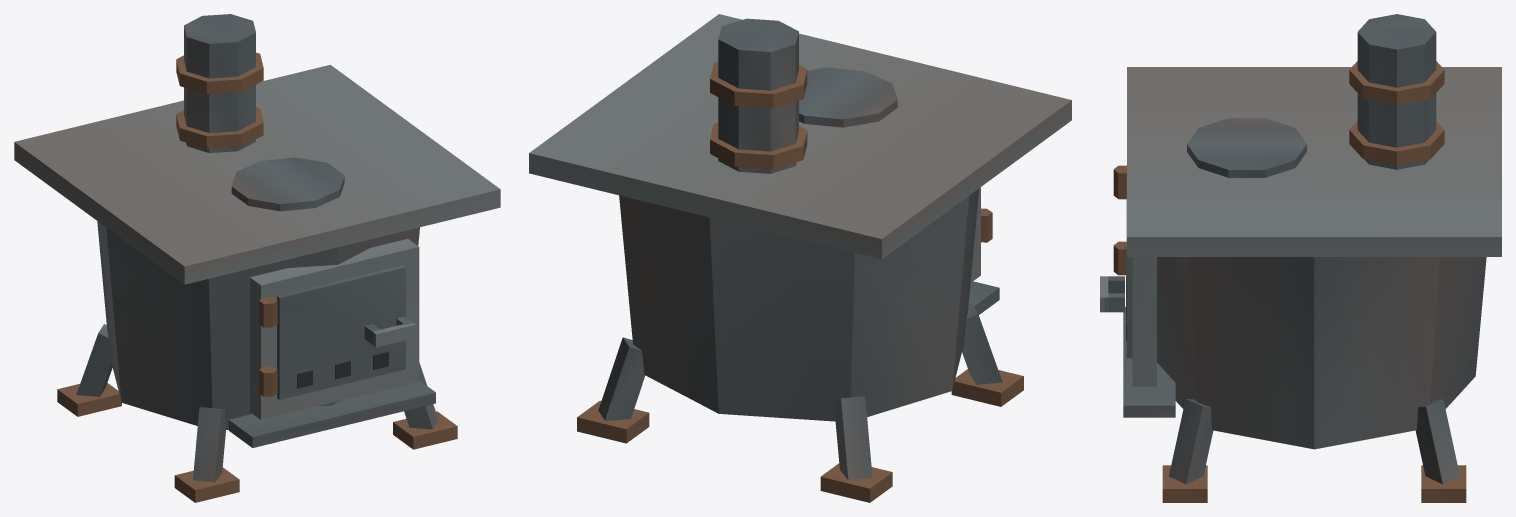
The model's file is cold_stove.glb.
3 renders of one model, left to right at view 1: azimuth 30°, elevation 25°; view 2: azimuth 150°, elevation 25°; view 3: azimuth 270°, elevation 25°, orthographic. The views are drawn at different scales.
Visible parts, largest first — view 1: cold_stove; view 2: cold_stove; view 3: cold_stove.
Part boxes in pixels (x1,y1,x2,y2): cold_stove: (14,14,500,502); cold_stove: (529,14,1071,502); cold_stove: (1100,14,1501,502).
Size of the model in its own units: 1 by 1.1 by 1.
